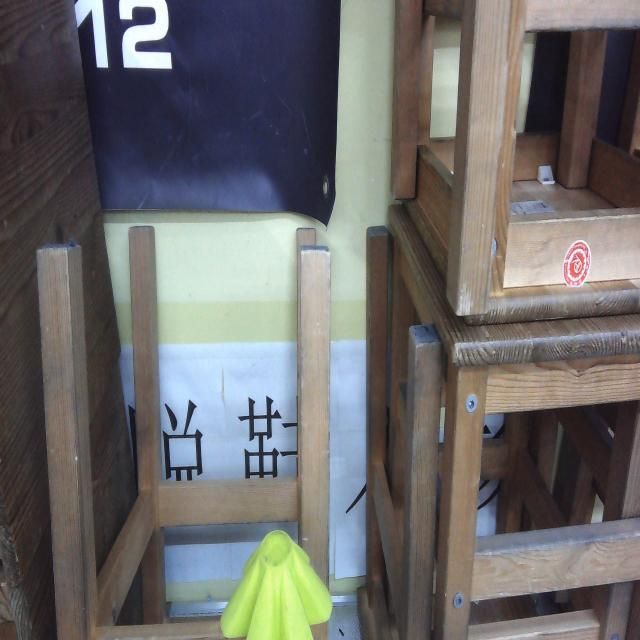Yellow-Stake-Head: (220, 528, 333, 640)
